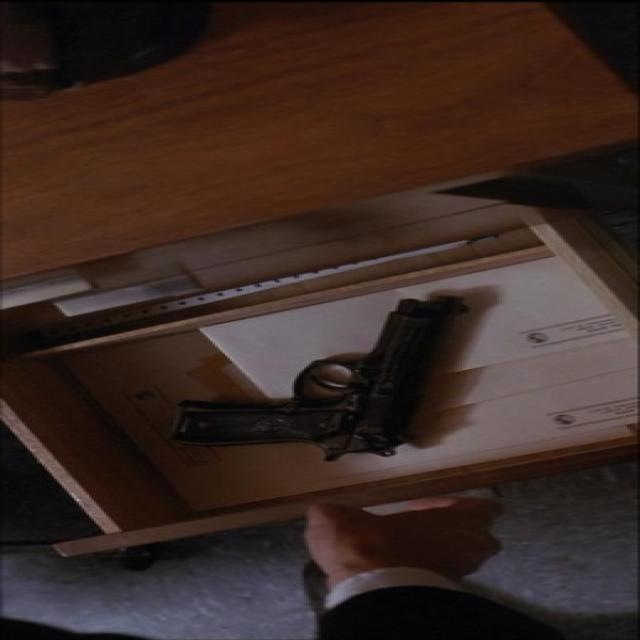weapons: (128, 284, 500, 468)
